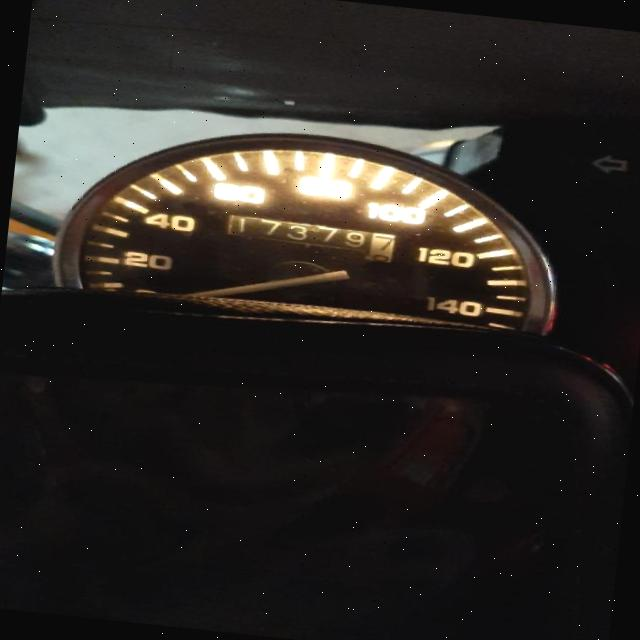odometer: (218, 207, 410, 270)
